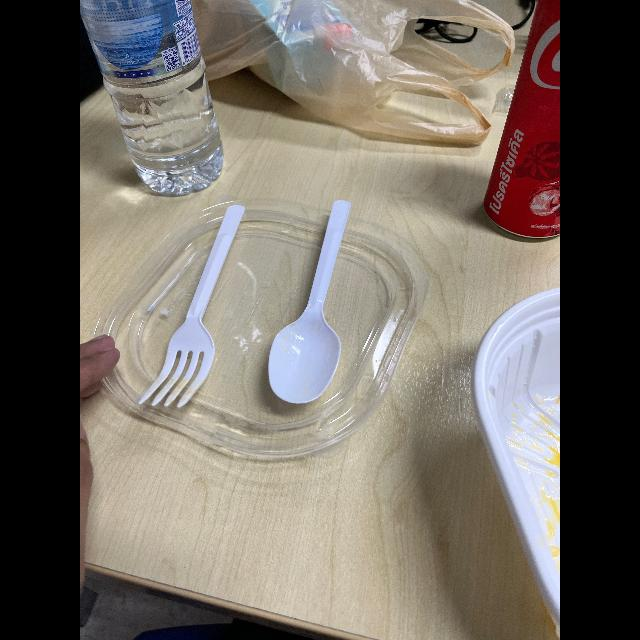plastic_cultery: (134, 194, 250, 426), (254, 197, 370, 419)
